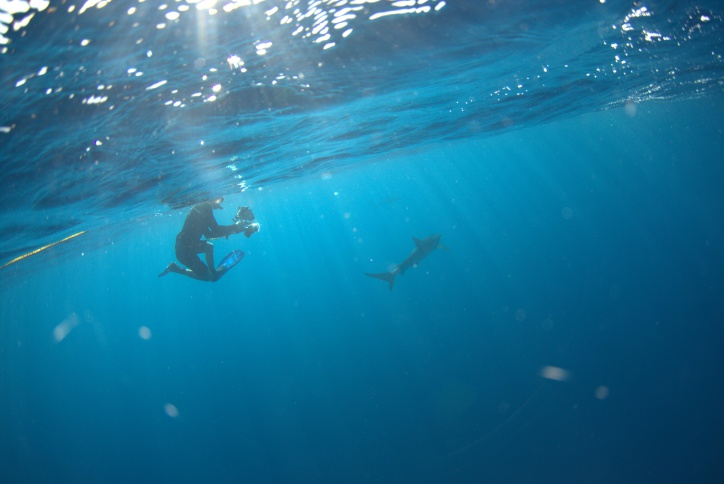Sedoso: (352, 225, 459, 293)
